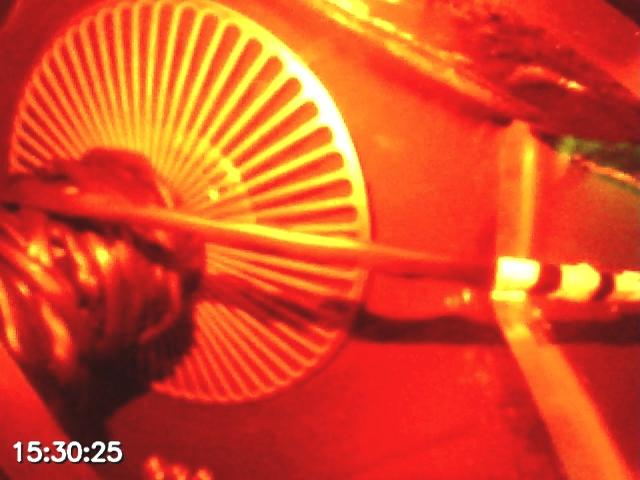white-dots: (494, 254, 640, 305)
